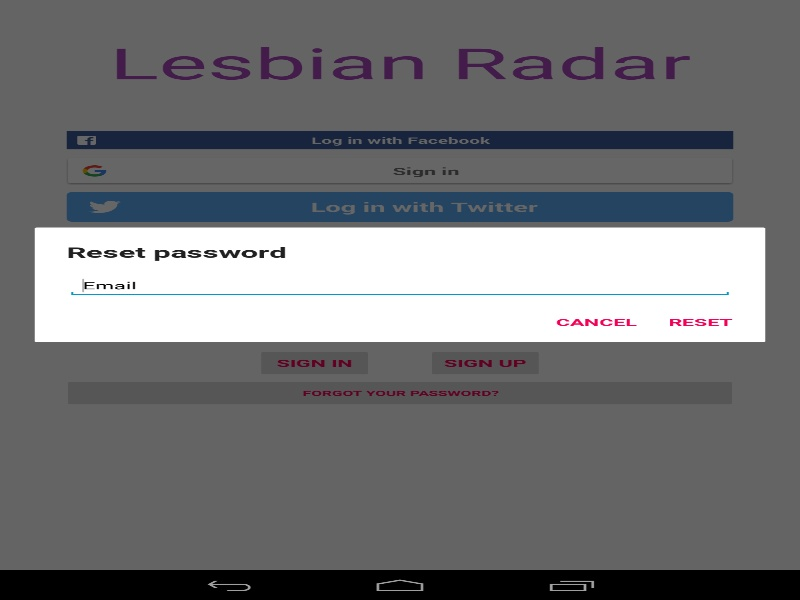Input: (66, 274, 733, 297)
